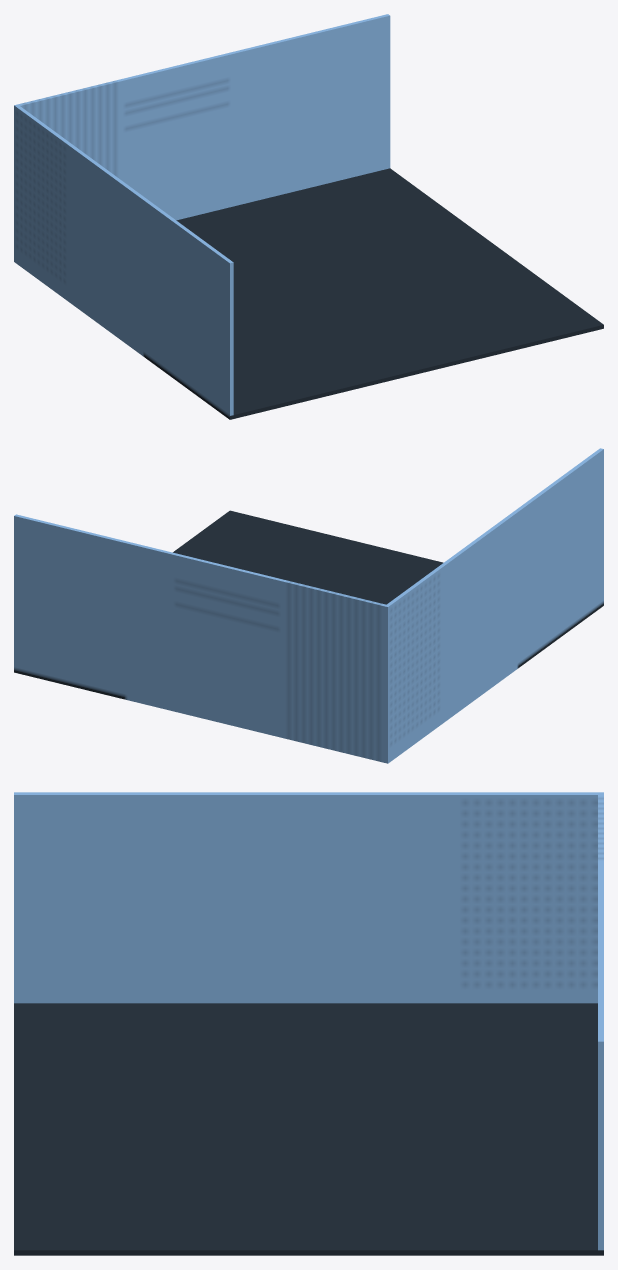
Rendered from room.obj.
3 renders of one model, top to bottom at view 1: azimuth 30°, elevation 25°; view 2: azimuth 150°, elevation 25°; view 3: azimuth 270°, elevation 25°, orthographic. The views are drawn at different scales.
Visible parts, largest first — view 1: room; view 2: room; view 3: room.
Boxes of the visible parts, x1,y1,x2,y2 form: room: (14,14,603,419); room: (14,448,603,763); room: (14,792,603,1255).
Size of the model in its own units: 10 by 4 by 10.
1 material, 1 textured.
